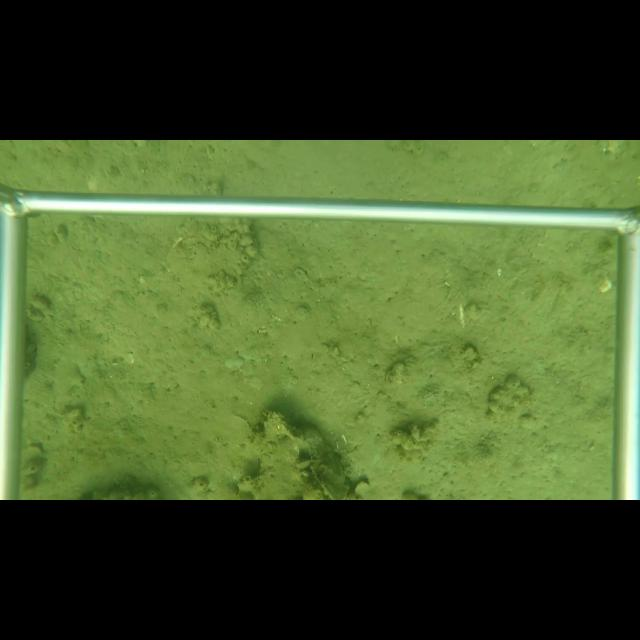Oyster-Closed: (237, 407, 361, 499)
